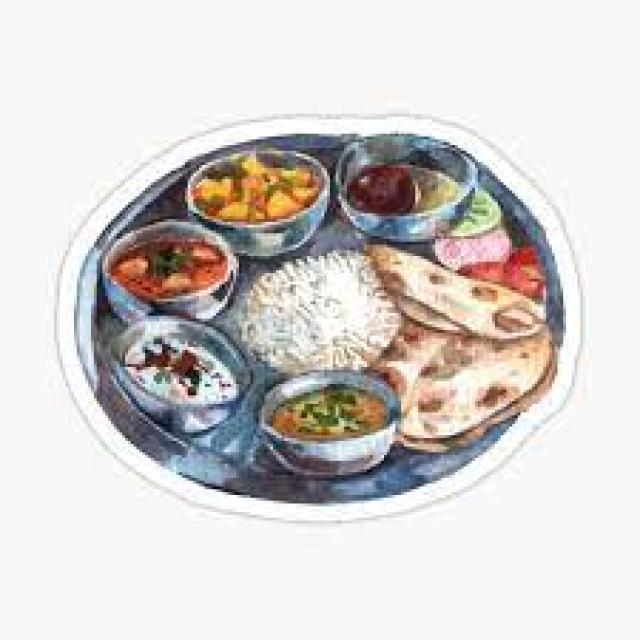rice: (239, 241, 388, 388)
veg-fry: (90, 317, 248, 437), (335, 136, 470, 242), (99, 221, 240, 314), (266, 366, 395, 459)
